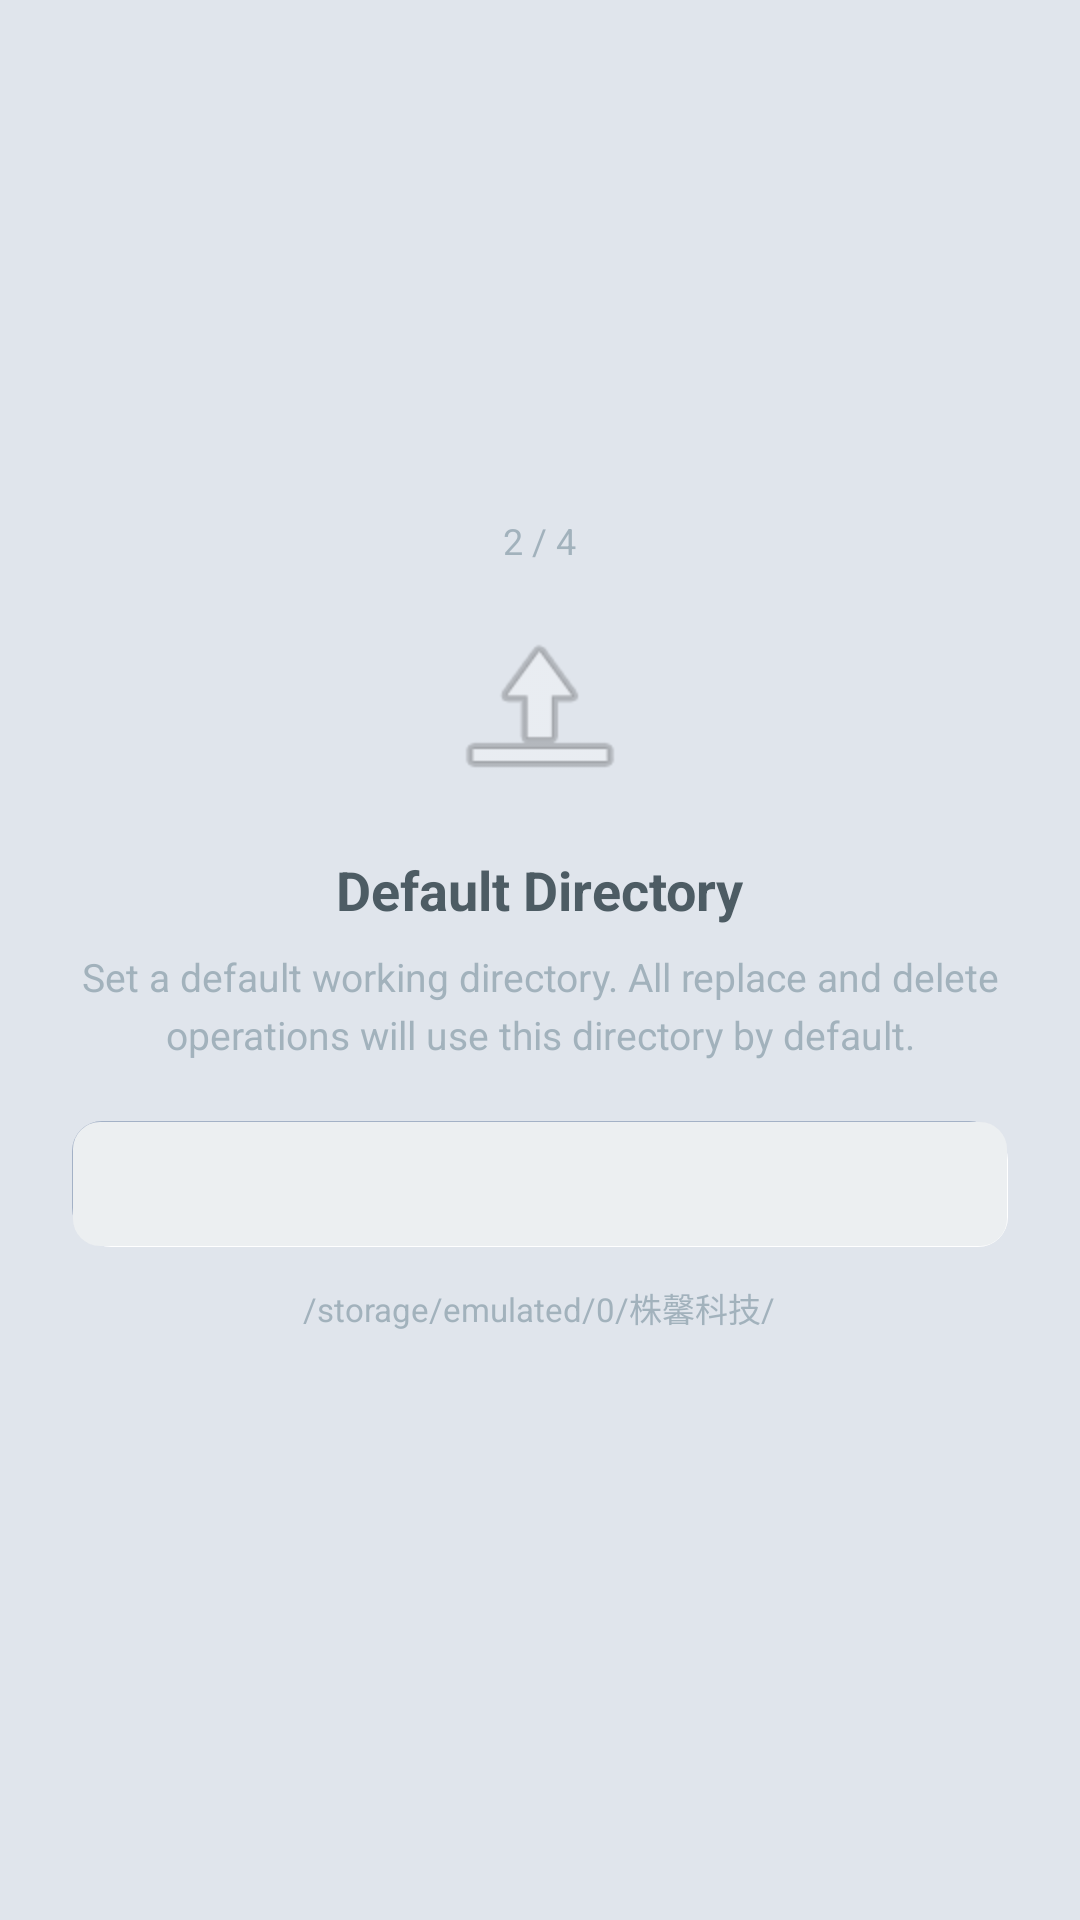

Screen size 1080px x 1920px. Icon name, then its center in pixels as [x,y]:
upload: [540,706]
